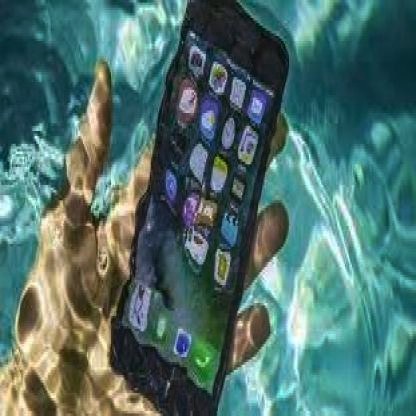cellphone: (115, 2, 281, 416)
